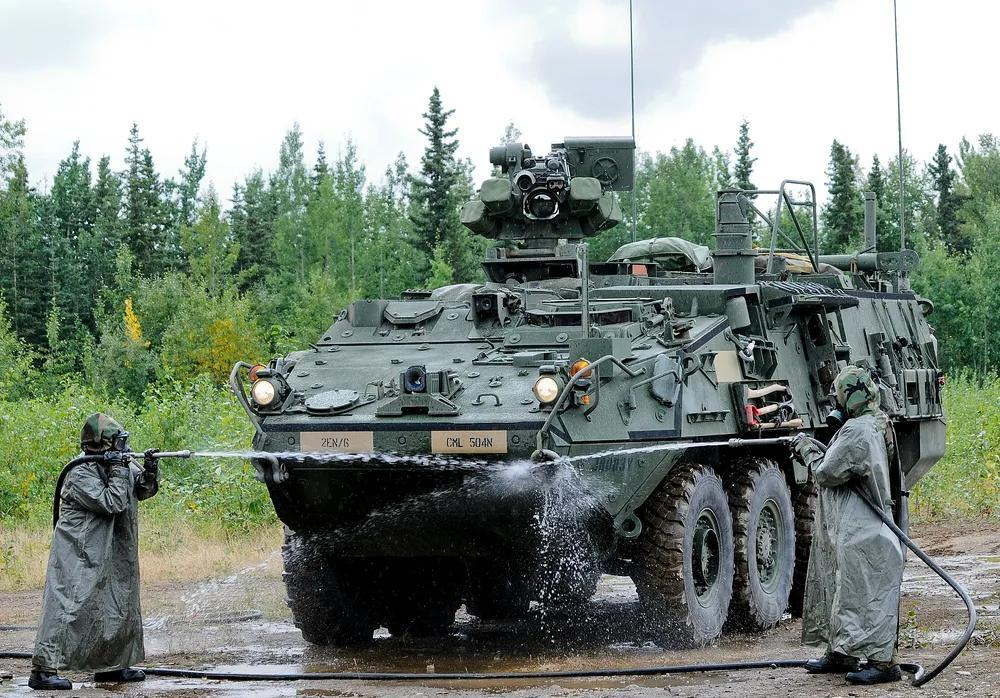MIL_IFV: (245, 135, 948, 639)
